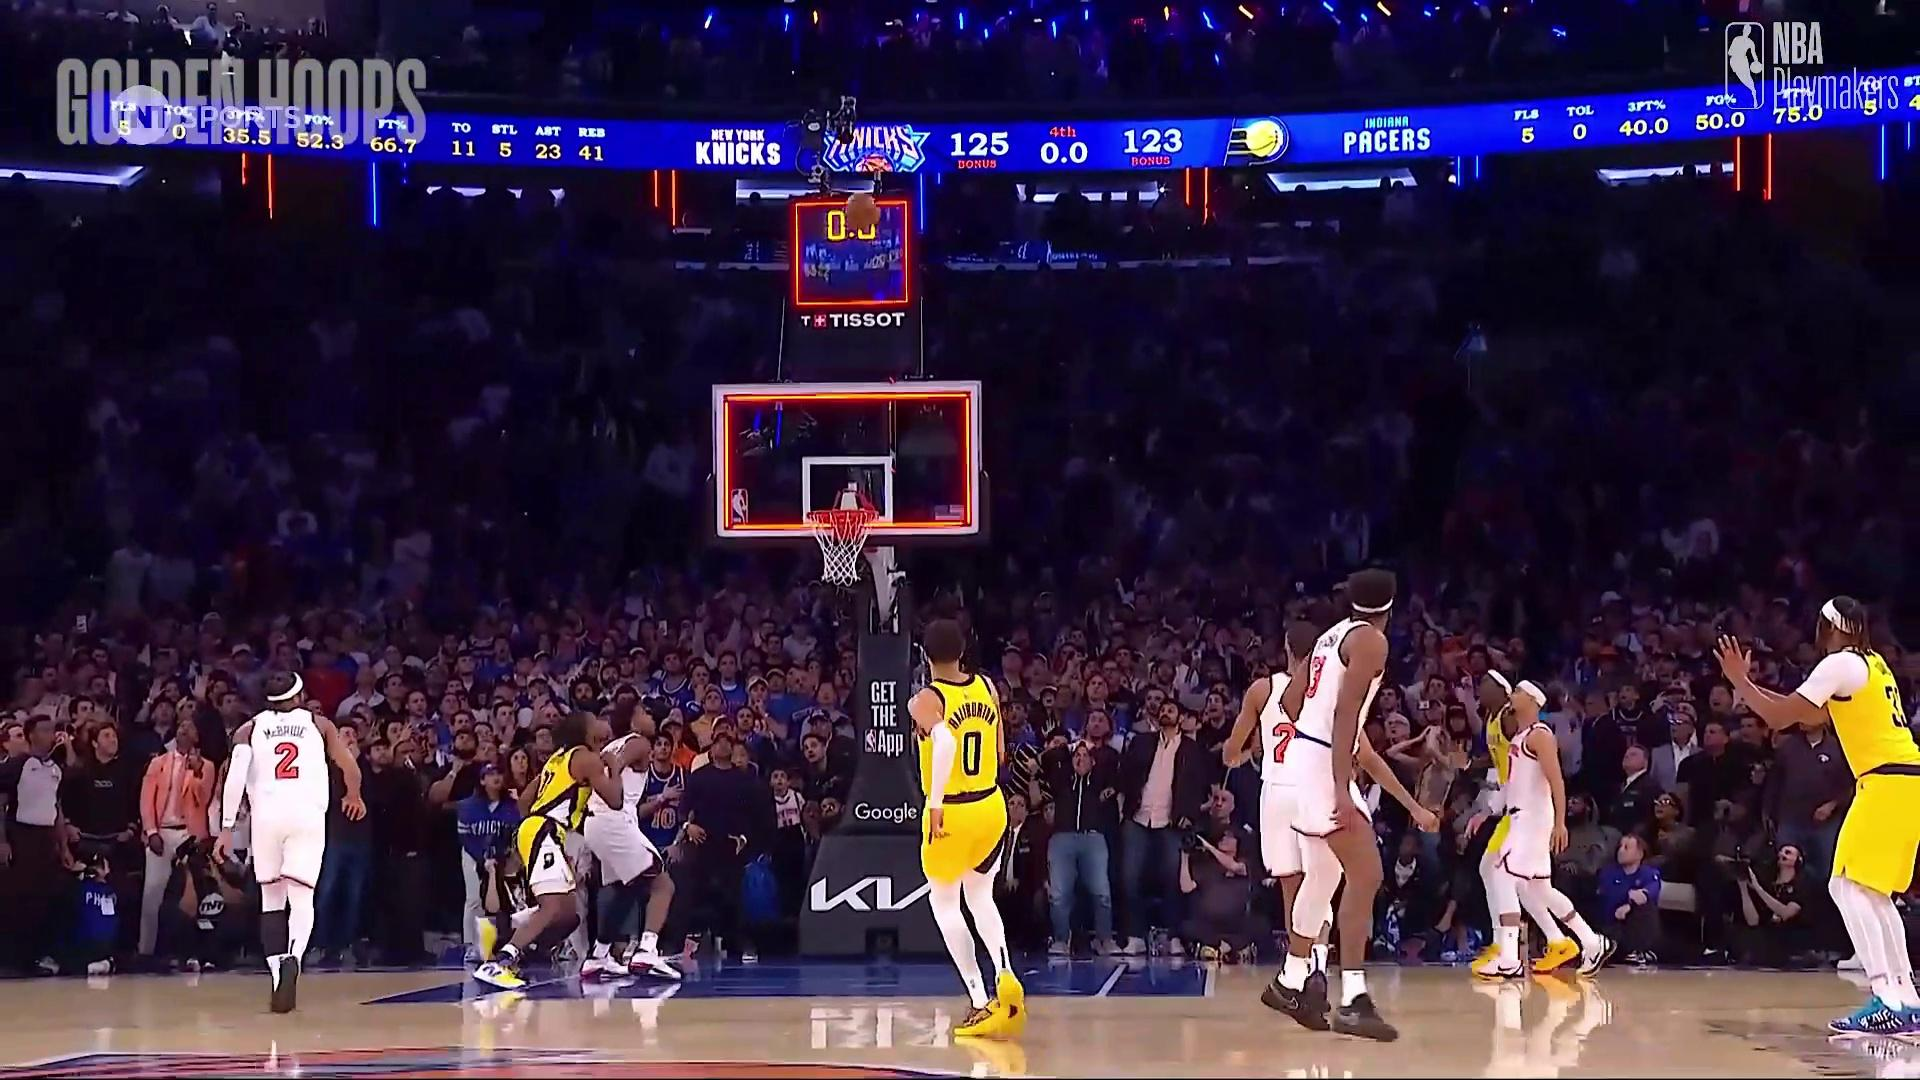ball: (844, 189, 878, 233)
hoop: (810, 506, 868, 579)
